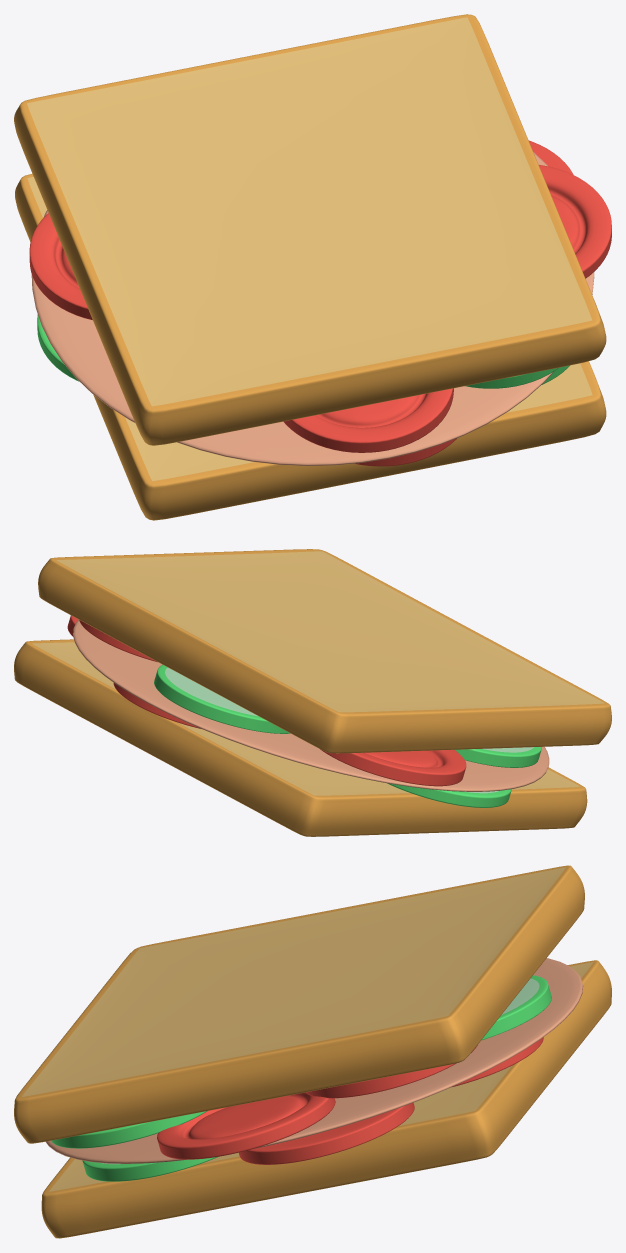
The model's file is sandwich.glb.
The picture shows the model from 3 angles, top to bottom: view 1: azimuth 30°, elevation 25°; view 2: azimuth 150°, elevation 25°; view 3: azimuth 270°, elevation 25°; orthographic projection. The views are drawn at different scales.
Parts seen in each view (by area): view 1: Sandwich Kotak; view 2: Sandwich Kotak; view 3: Sandwich Kotak.
Part boxes in pixels (x1,y1,x2,y2): Sandwich Kotak: (14, 14, 611, 520); Sandwich Kotak: (14, 549, 611, 836); Sandwich Kotak: (14, 865, 611, 1238).
Bounding box in the file's own units: 7.06 × 3.83 × 7.1.
